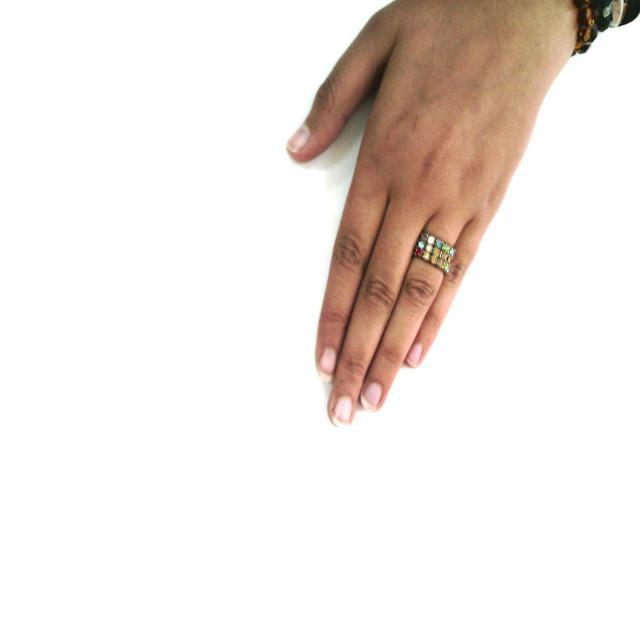Fingernail: (332, 396, 353, 430), (288, 126, 309, 151), (363, 383, 381, 410), (320, 350, 336, 375), (406, 343, 422, 368)
